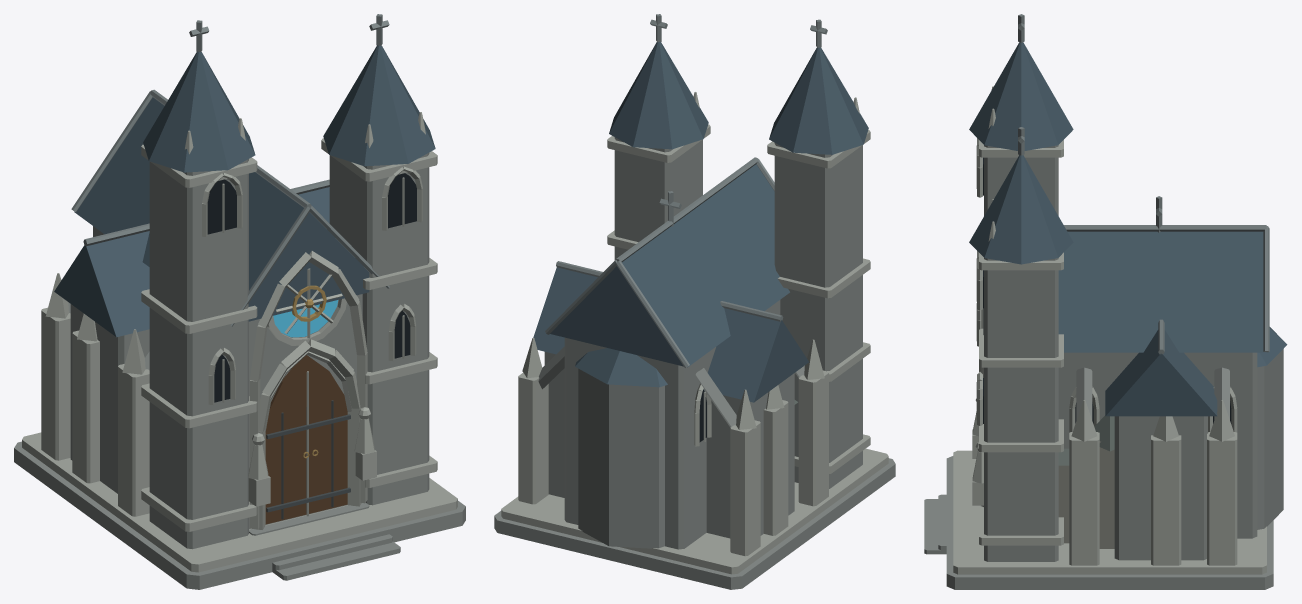
File: cathedral.glb
The picture shows the model from 3 angles, left to right: view 1: azimuth 30°, elevation 25°; view 2: azimuth 150°, elevation 25°; view 3: azimuth 270°, elevation 25°; orthographic projection. The views are drawn at different scales.
Parts seen in each view (by area): view 1: VIL_CATHEDRAL_CHAPEL; view 2: VIL_CATHEDRAL_CHAPEL; view 3: VIL_CATHEDRAL_CHAPEL, VIL_CATHEDRAL_GATE, VIL_CATHEDRAL_WORKSHOP.
Boxes of the visible parts, x1,y1,x2,y2 form: VIL_CATHEDRAL_CHAPEL: (14,14,465,589); VIL_CATHEDRAL_CHAPEL: (494,14,895,589); VIL_CATHEDRAL_CHAPEL: (924,14,1287,589); VIL_CATHEDRAL_GATE: (1094,415,1114,548); VIL_CATHEDRAL_WORKSHOP: (1058,448,1069,543).
Size of the model in its own units: 6.24 by 11.26 by 7.77.
